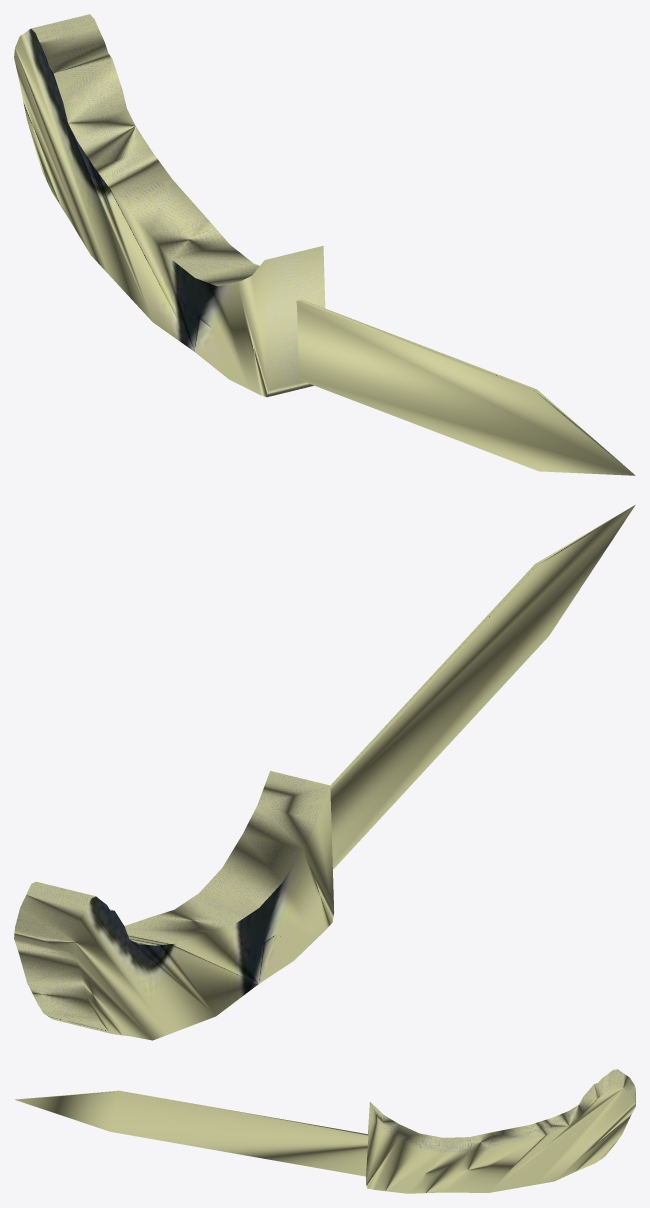
Rendered from model_align.obj.
The picture shows the model from 3 angles, top to bottom: view 1: azimuth 30°, elevation 25°; view 2: azimuth 150°, elevation 25°; view 3: azimuth 270°, elevation 25°; orthographic projection. The views are drawn at different scales.
Size of the model in its own units: 0.0136 by 0.0455 by 0.2347.
